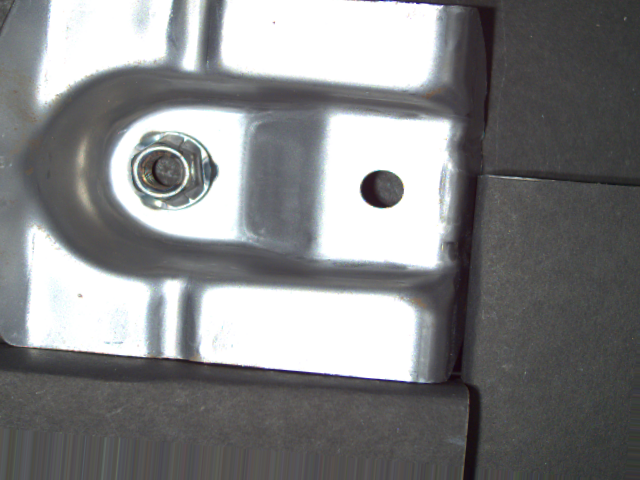good: (123, 127, 223, 218)
